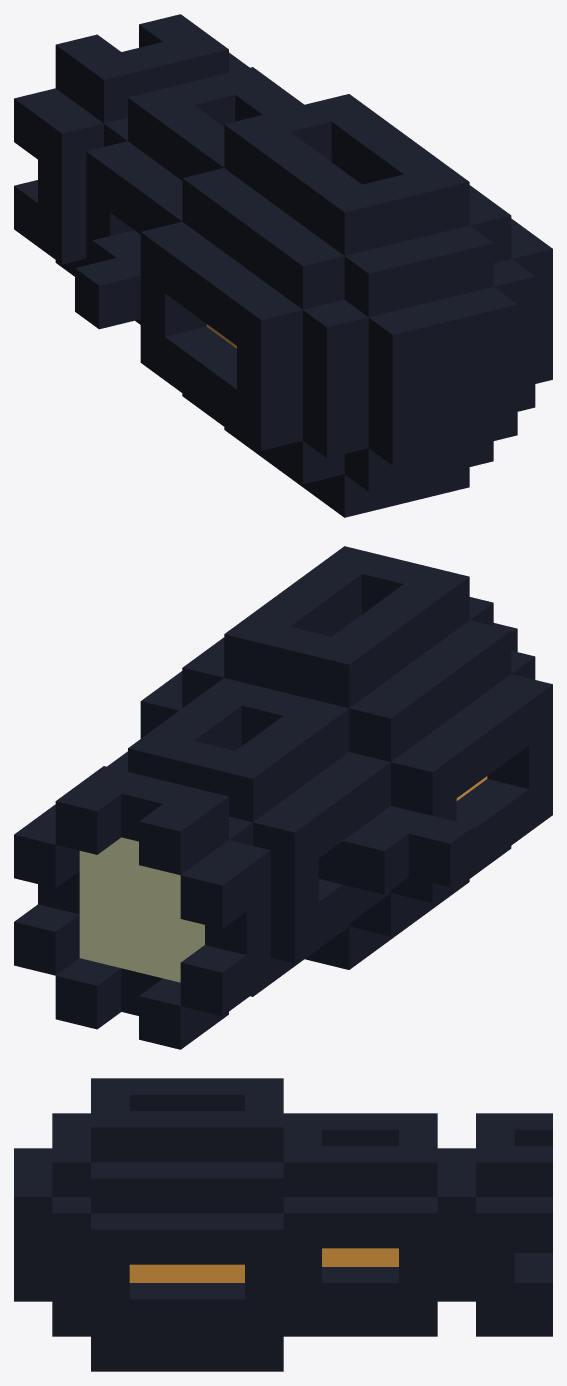
The model's file is LeftEngineSmall1.obj.
3 renders of one model, top to bottom at view 1: azimuth 30°, elevation 25°; view 2: azimuth 150°, elevation 25°; view 3: azimuth 270°, elevation 25°, orthographic. The views are drawn at different scales.
Size of the model in its own units: 8 by 7 by 14.
1 material, 1 textured.
